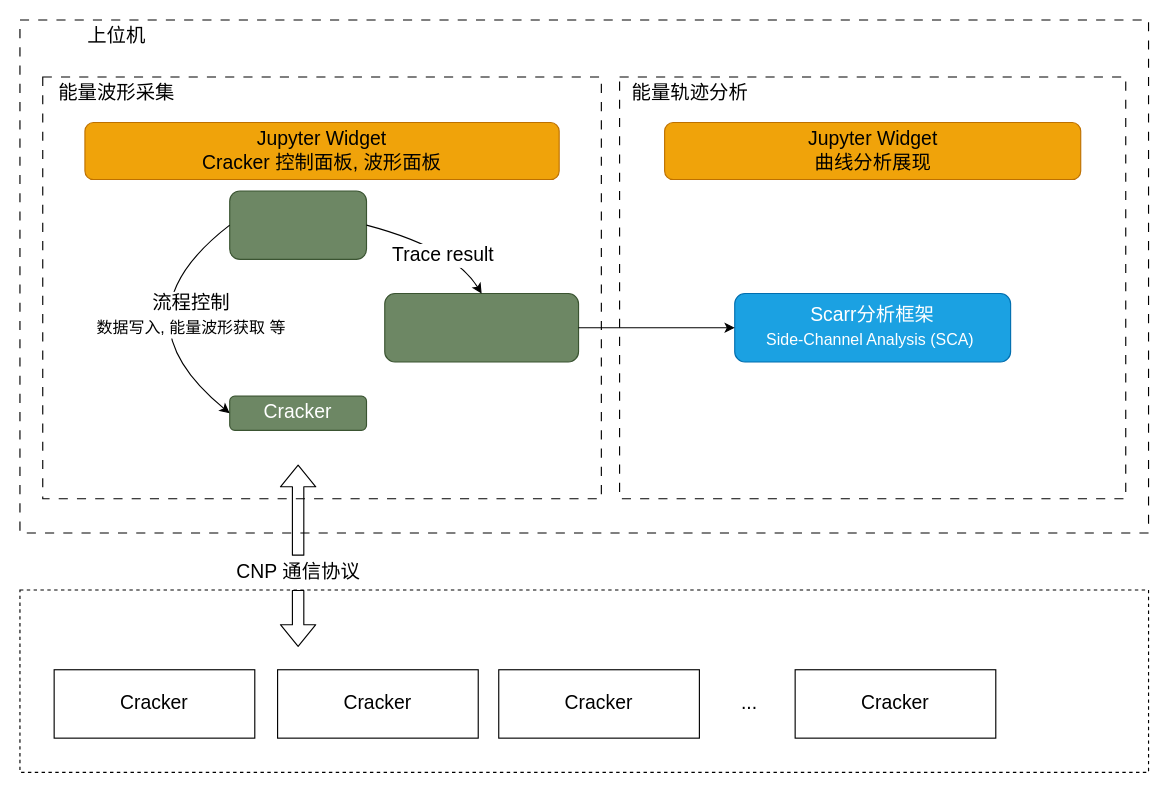
The diagram is 1169 pixels wide and 792 high, and some of its shapes have lost their labels. The shapes that lost their labels are listed below. From the top down, each one's centre as x and y in pixels, then its label:
At point (298, 224): "采集器".
At point (481, 327): "能量轨迹数据集 Numpy or zarr(scarr格式)".
